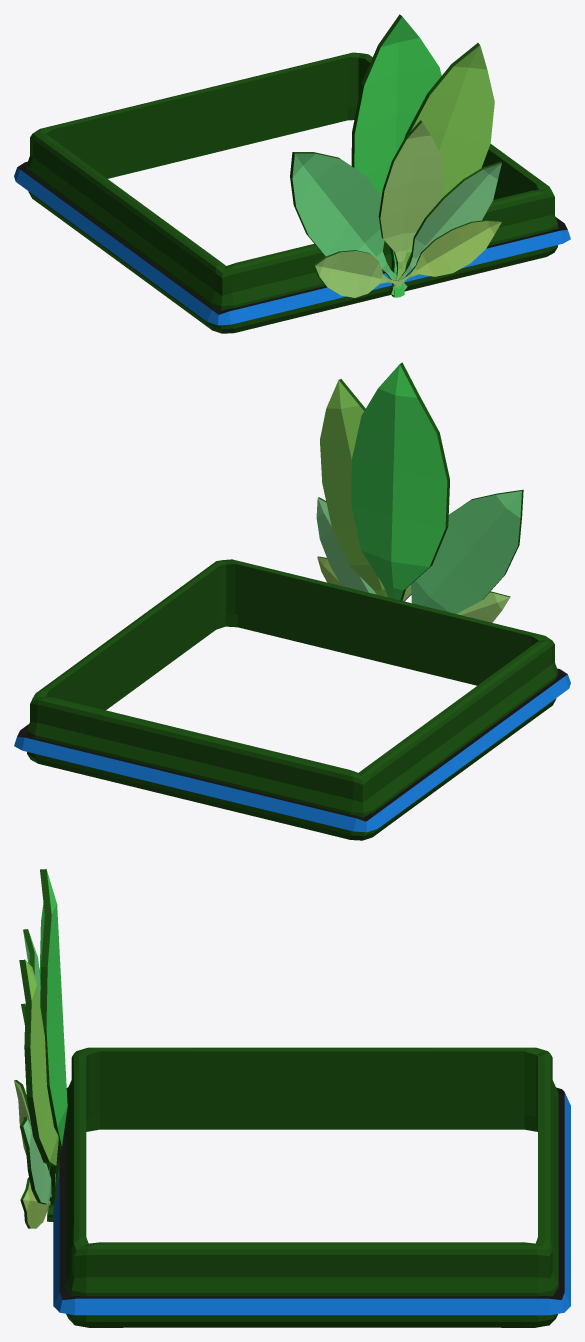
Rendered from CouronnePlante.fbx.
3 views of the same model, one above another, from view 1: azimuth 30°, elevation 25°; view 2: azimuth 150°, elevation 25°; view 3: azimuth 270°, elevation 25° (orthographic). The views are drawn at different scales.
Visible parts, largest first — view 1: CouronnePlante; view 2: CouronnePlante; view 3: CouronnePlante.
Boxes of the visible parts, left/top/right/bottom form: CouronnePlante: left=14, top=14, right=570, bottom=333; CouronnePlante: left=14, top=362, right=570, bottom=840; CouronnePlante: left=14, top=869, right=570, bottom=1327.
Bounding box in the file's own units: 217 × 166 × 234.
